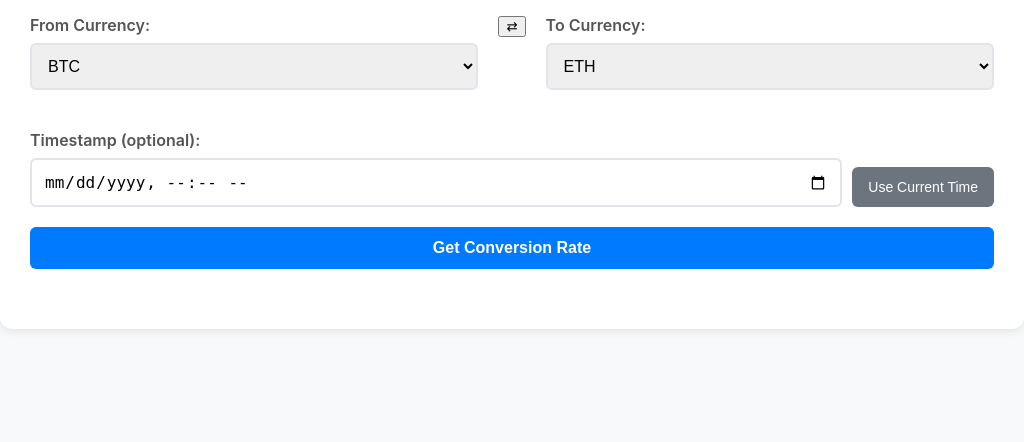
Scenario: CurrencyConverter › should display error when conversion fails
What coordinates should you click on to do the following:
click the button "Get Conversion Rate"
I would click on:
 (512, 248)
Its box is [30,227,994,269].
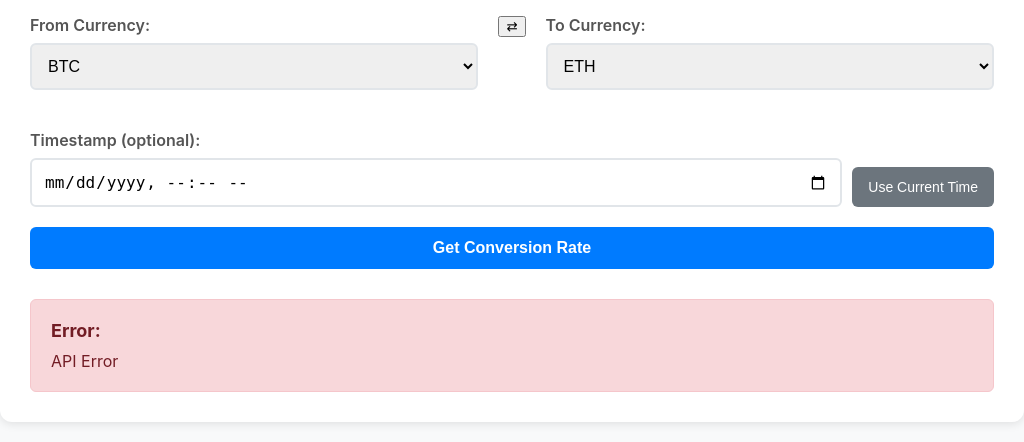
Result: the heading "Error:" is shown at [51,320,101,341]
Result: the text "API Error" is shown at [51,351,118,371]
